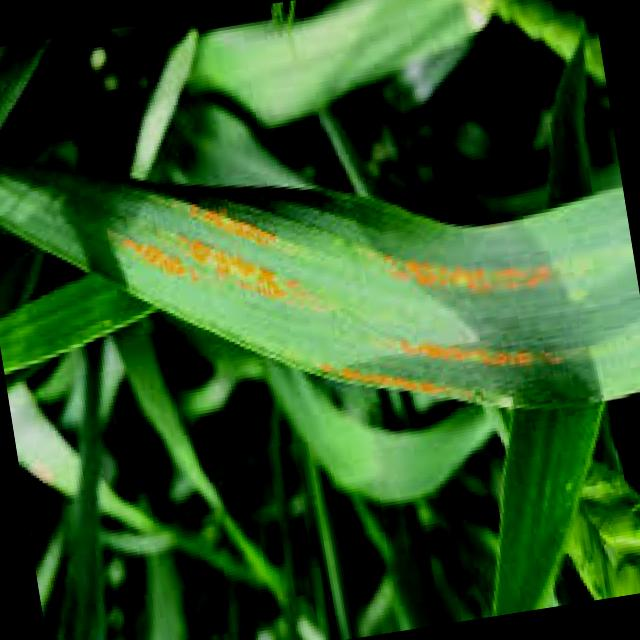leaf_rust: (0, 165, 640, 407)
